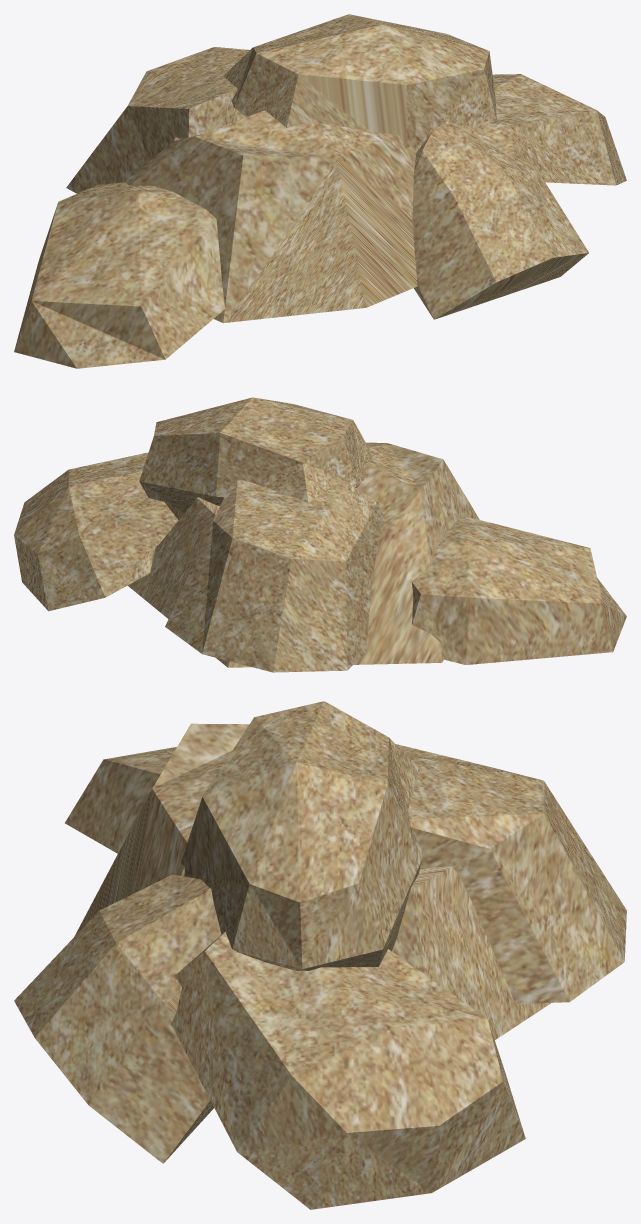
Rendered from tatt_rock_formation_l1.fbx.
The picture shows the model from 3 angles, top to bottom: view 1: azimuth 30°, elevation 25°; view 2: azimuth 150°, elevation 25°; view 3: azimuth 270°, elevation 25°; orthographic projection. The views are drawn at different scales.
Visible parts, largest first — view 1: mesh_node; view 2: mesh_node; view 3: mesh_node.
Part boxes in pixels (left/top/right/bottom): mesh_node: left=14, top=14, right=626, bottom=368; mesh_node: left=14, top=397, right=626, bottom=672; mesh_node: left=14, top=701, right=626, bottom=1209.
Size of the model in its own units: 14.03 by 5.14 by 8.91.
1 material, 1 textured.
